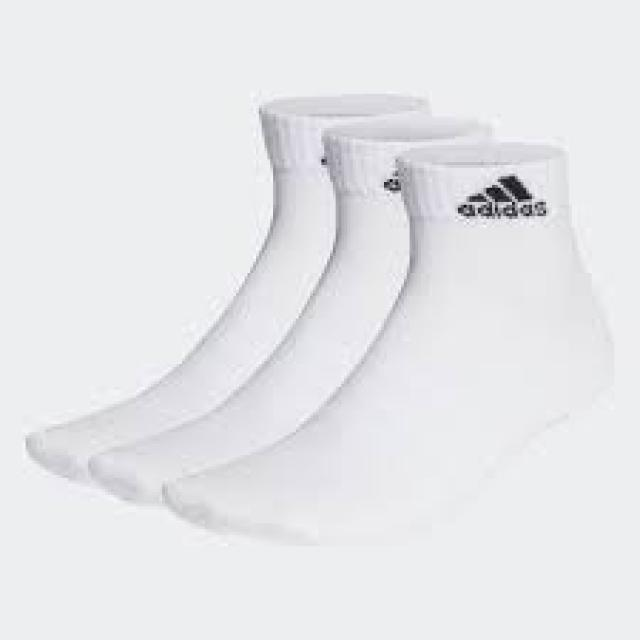sock: (160, 134, 614, 546), (23, 88, 432, 501)
